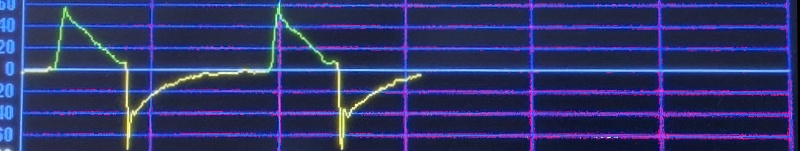normal_flow: (20, 1, 423, 151)
